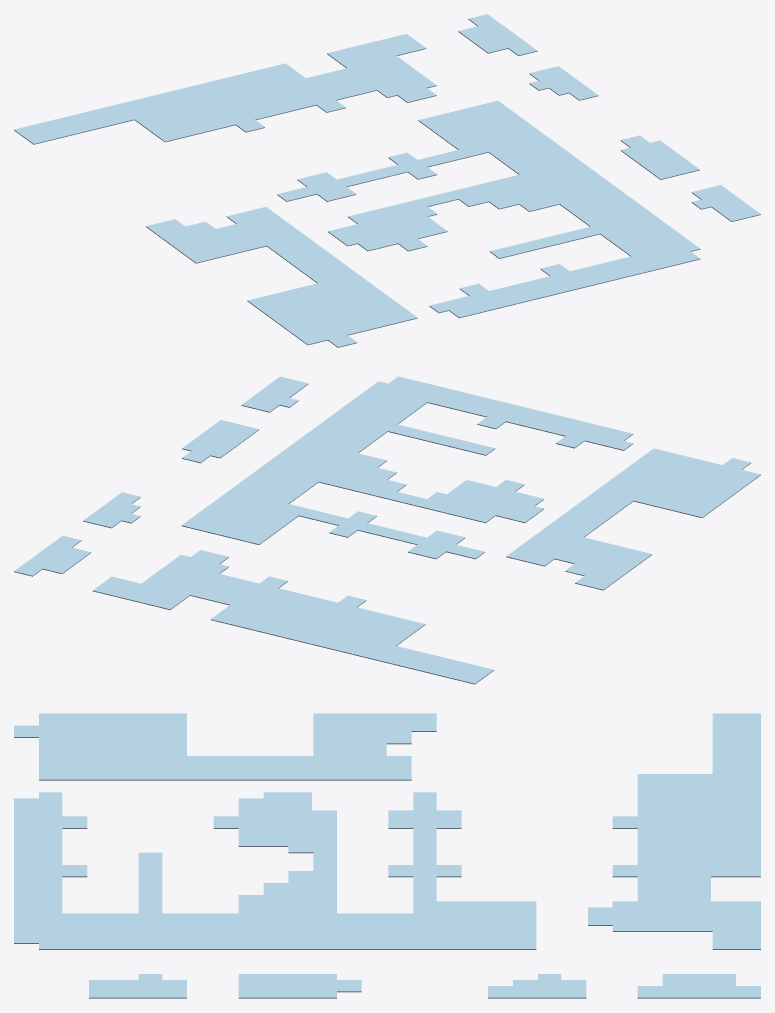
Rendered from SM_MPR4_SolarBank_01_1_LOD2.fbx.
3 renders of one model, top to bottom at view 1: azimuth 30°, elevation 25°; view 2: azimuth 150°, elevation 25°; view 3: azimuth 270°, elevation 25°, orthographic. The views are drawn at different scales.
Parts seen in each view (by area): view 1: SM_MPR4_SolarBank_01_1_LOD2; view 2: SM_MPR4_SolarBank_01_1_LOD2; view 3: SM_MPR4_SolarBank_01_1_LOD2.
Part boxes in pixels (x1,y1,x2,y2): SM_MPR4_SolarBank_01_1_LOD2: (14, 14, 760, 347); SM_MPR4_SolarBank_01_1_LOD2: (14, 376, 760, 684); SM_MPR4_SolarBank_01_1_LOD2: (14, 713, 760, 998).
Bounding box in the file's own units: 5253 × 5838 × 8.6.
